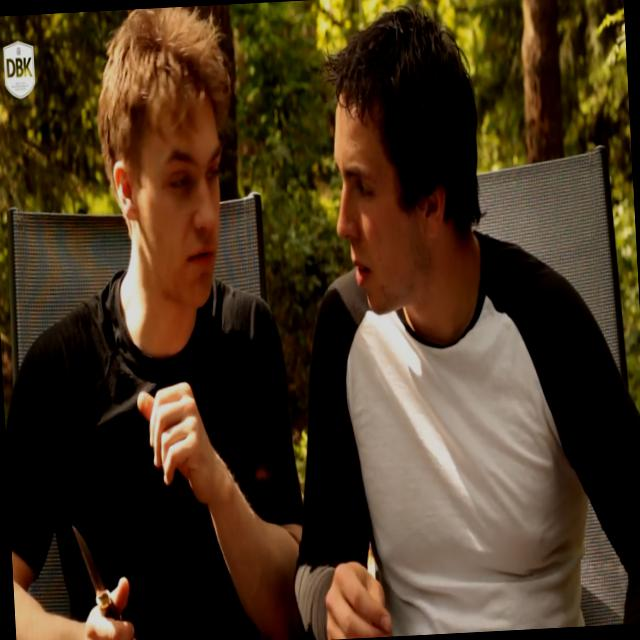knife: (64, 501, 143, 639)
